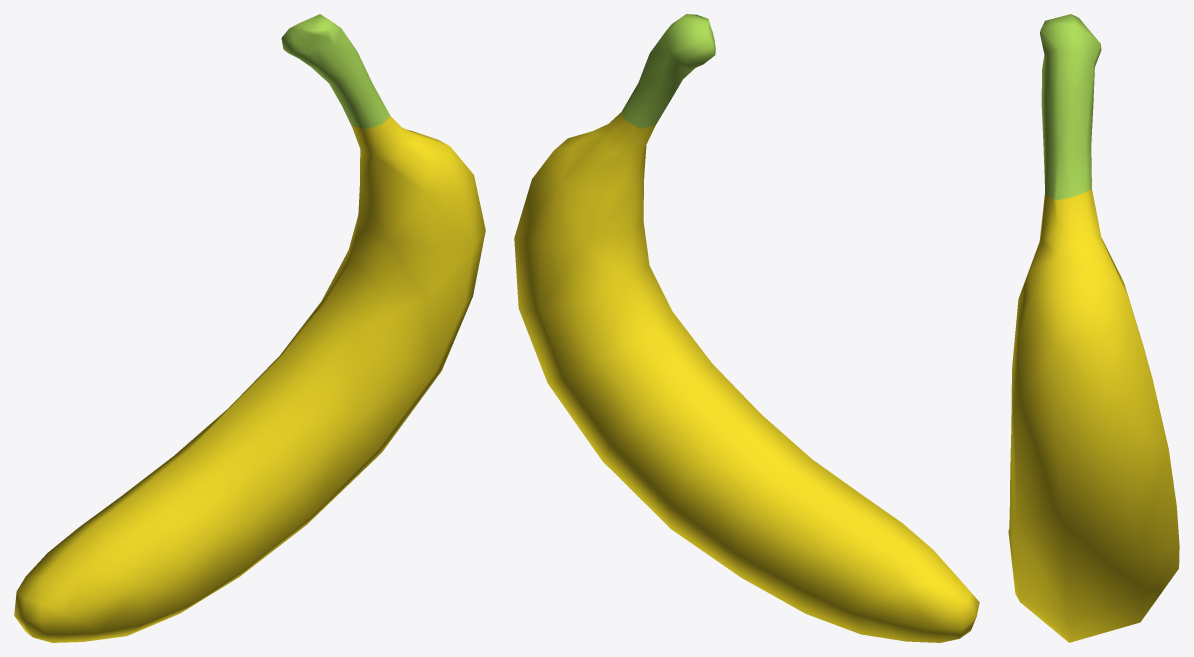
Rendered from Banana.fbx.
3 views of the same model, side by side, from view 1: azimuth 30°, elevation 25°; view 2: azimuth 150°, elevation 25°; view 3: azimuth 270°, elevation 25° (orthographic). The views are drawn at different scales.
Visible parts, largest first — view 1: Banana; view 2: Banana; view 3: Banana.
Part boxes in pixels (x1,y1,x2,y2): Banana: (14,14,485,642); Banana: (514,14,979,642); Banana: (1008,14,1179,642).
Bounding box in the file's own units: 2.94 × 3.51 × 0.7745.
